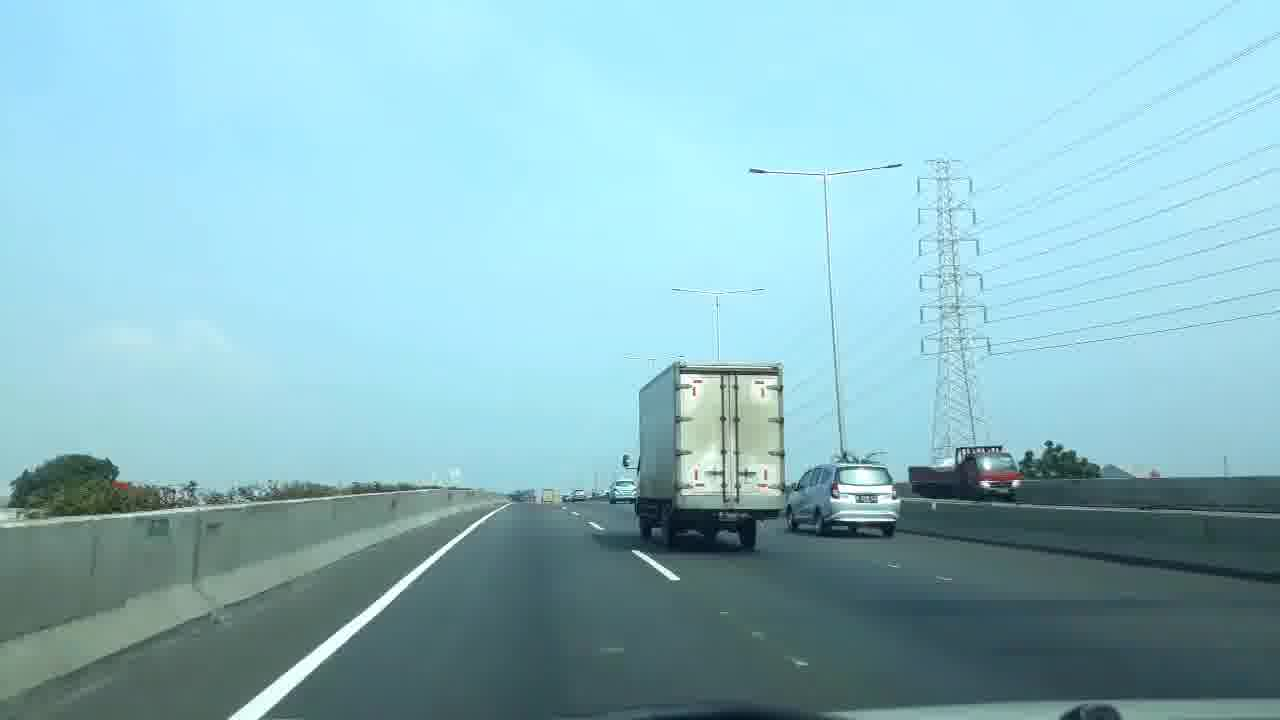plate_positive: (855, 494, 879, 503)
